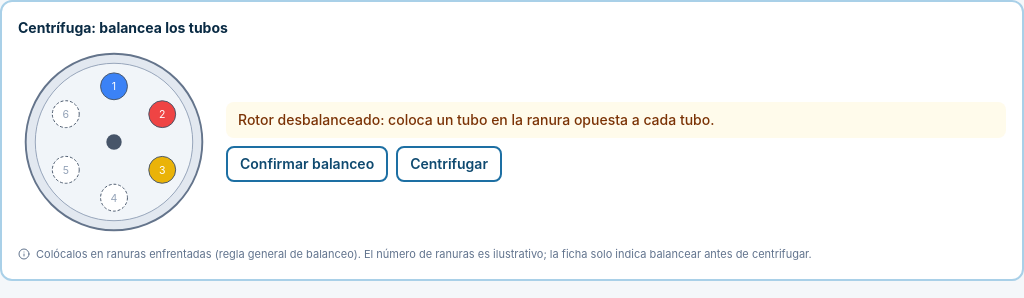
it: simulaciones de dispositivos (P12/P13) › la centrífuga exige un rotor balanceado antes de confirmar
Later steps or results of the test are not shown.
Click the button "Confirmar balanceo" at [307, 164], box [226,146,388,182]
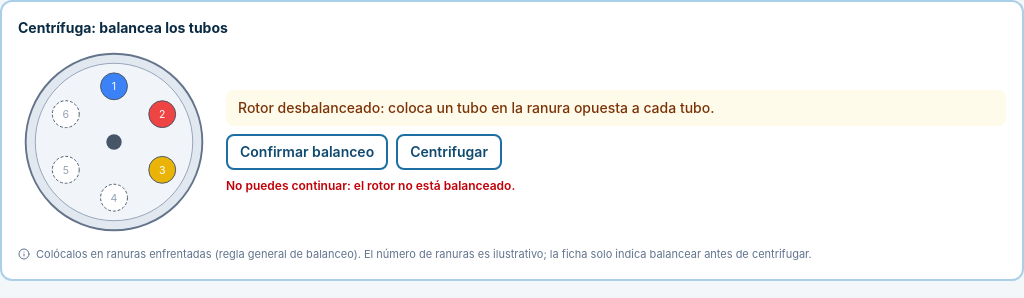
Now the message "No puedes continuar: el rotor no está balanceado." is shown, box [226,178,515,193]
